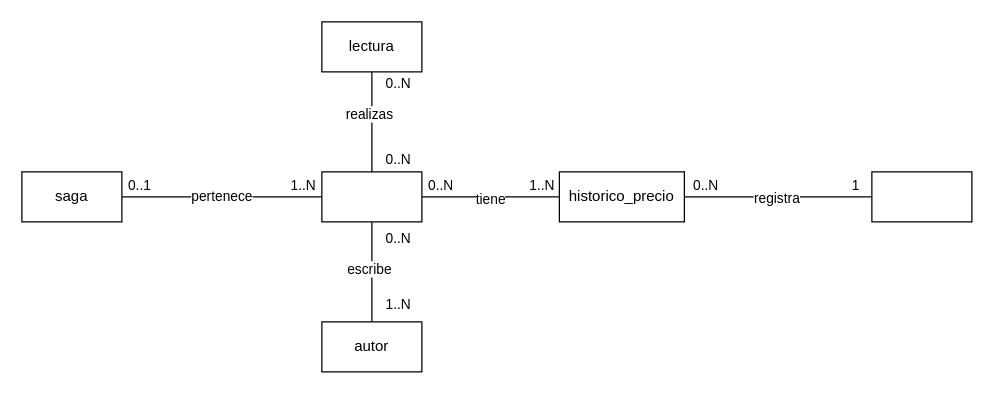
Some shapes in this 994 by 394 pixel diagram are drawn without their labels. The centre of each missing label's shape, as x and y in pixels:
libro: (371,196)
tienda: (921,196)
